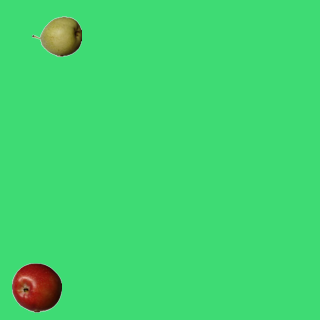Apple Braeburn: (11, 262, 61, 312)
Pear: (31, 11, 81, 61)
